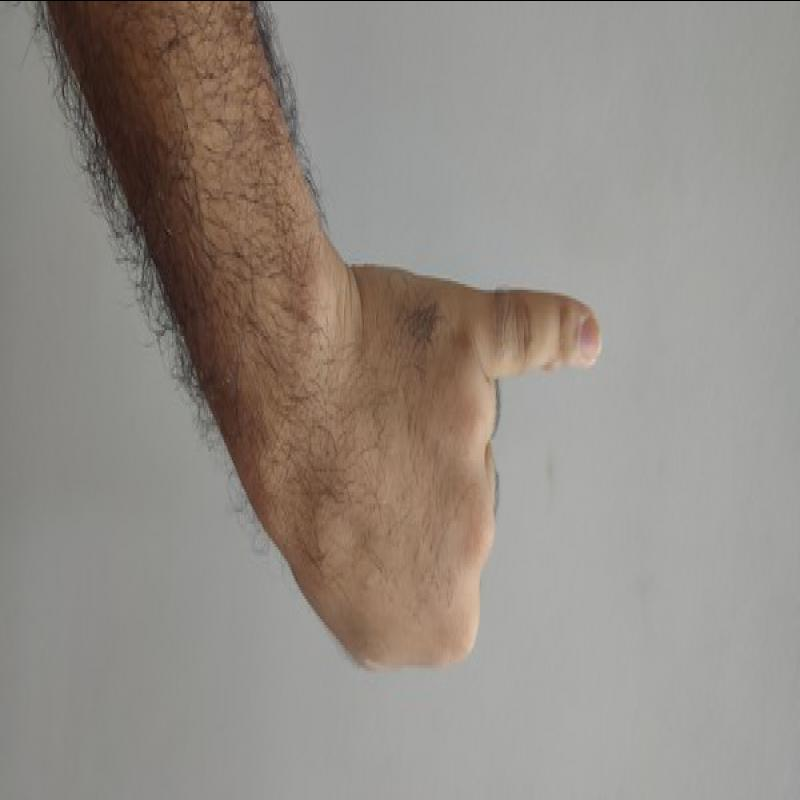Kartharee Mukham: (319, 244, 618, 688)
